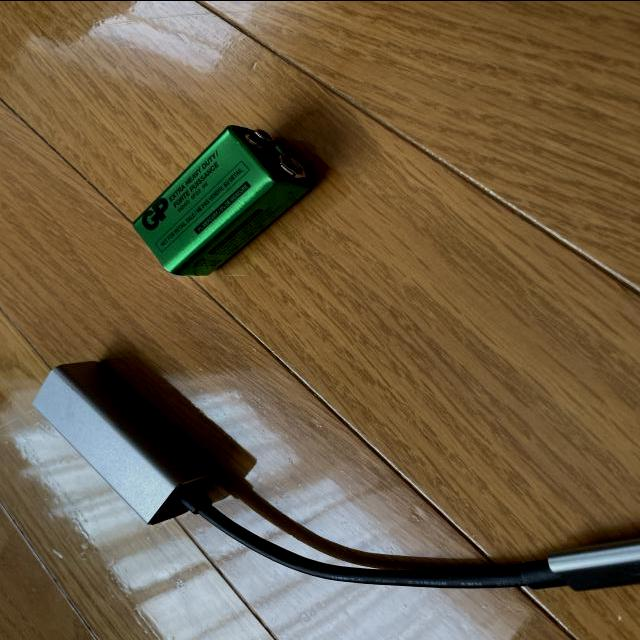9V: (131, 122, 314, 277)
